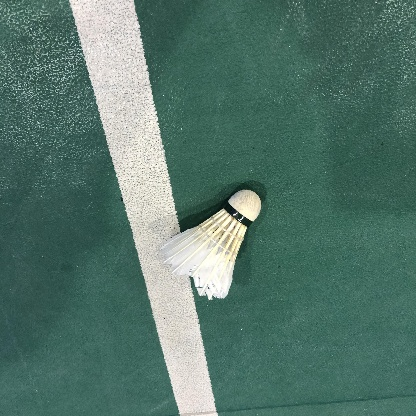ball_single: (160, 190, 261, 300)
